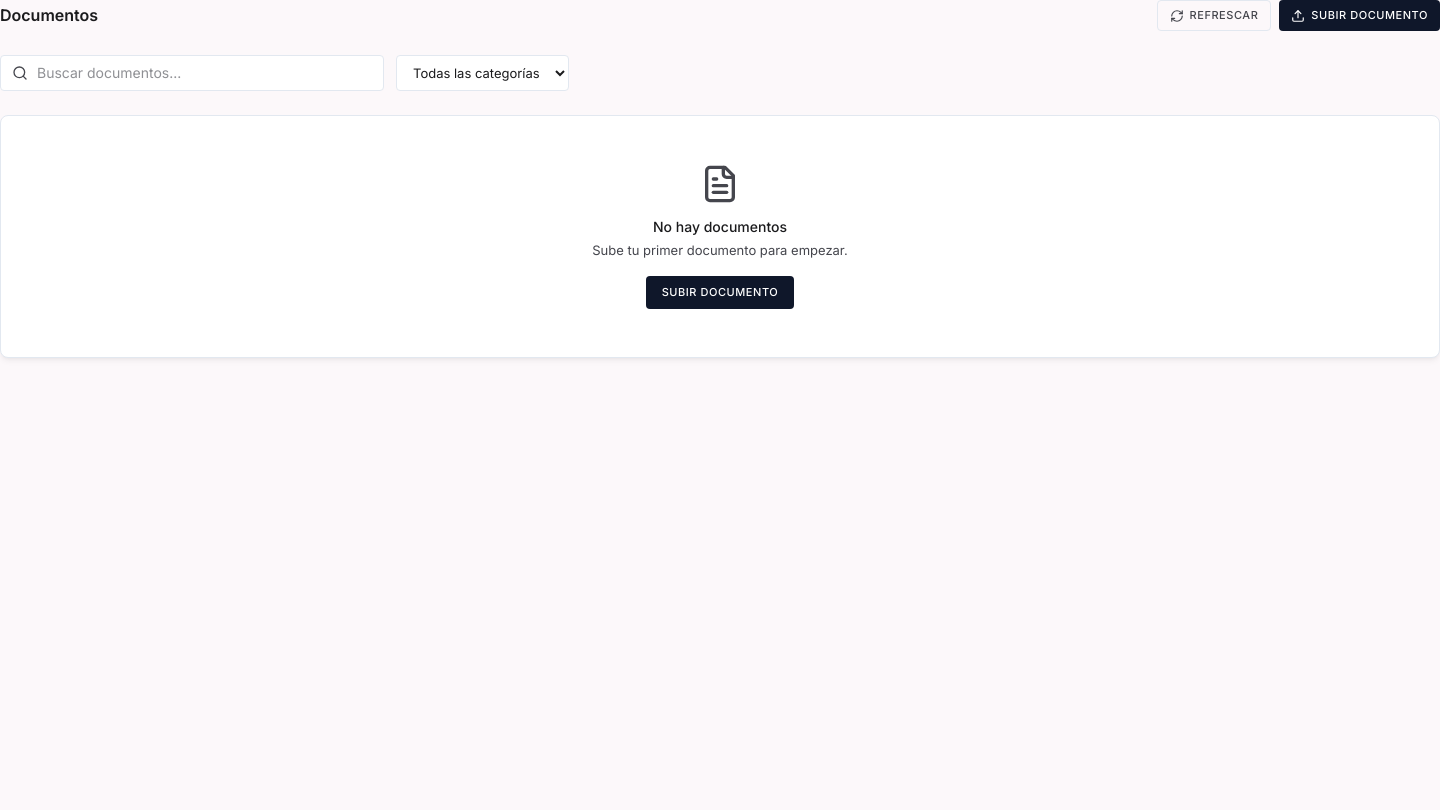
Test case: AdminDocumentosPage › opens upload dialog when clicking upload button
The width and height of the screenshot is (1440, 810).
Click the button with test id "documentos-upload-btn".
click(1360, 15)  # box x1=1279 y1=0 x2=1439 y2=30
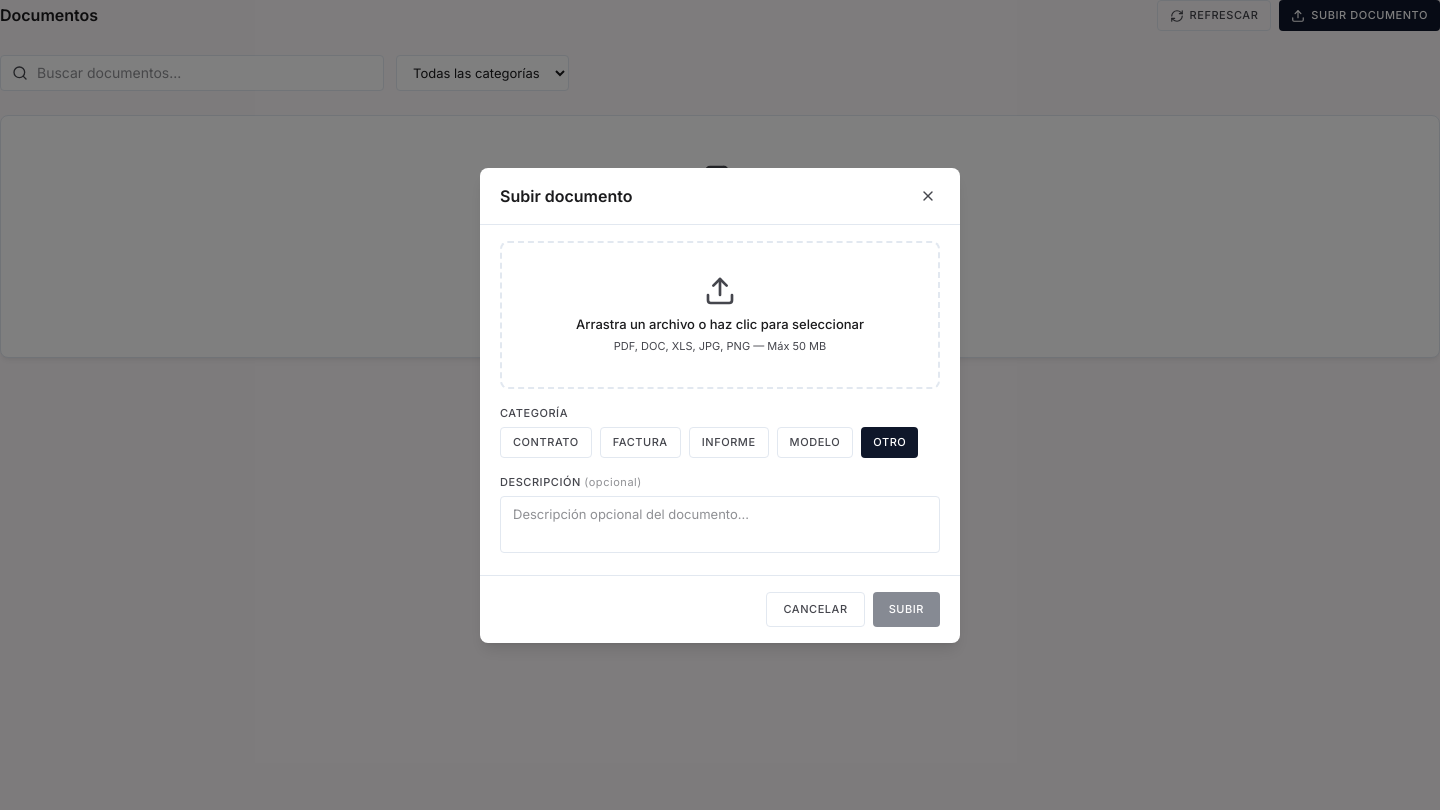
Expected: the element with test id "upload-dialog" is shown, x1=480 y1=168 x2=960 y2=642
